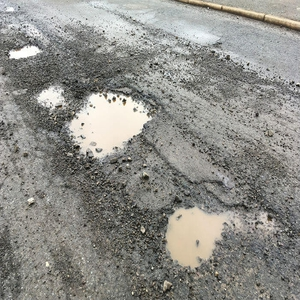pothole: (156, 193, 261, 277), (68, 84, 163, 166)
